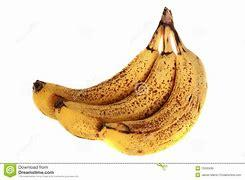banana: (29, 11, 209, 156)
